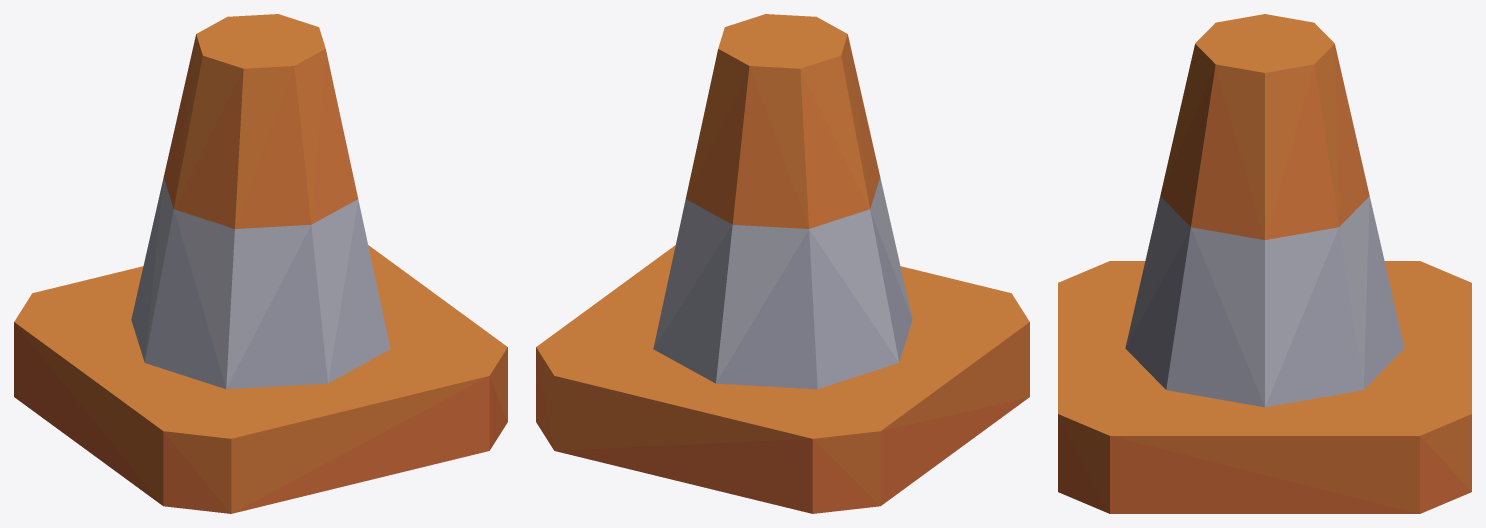
The picture shows the model from 3 angles, left to right: view 1: azimuth 30°, elevation 25°; view 2: azimuth 150°, elevation 25°; view 3: azimuth 270°, elevation 25°; orthographic projection. The views are drawn at different scales.
Size of the model in its own units: 0.7832 by 0.8 by 0.7832.
